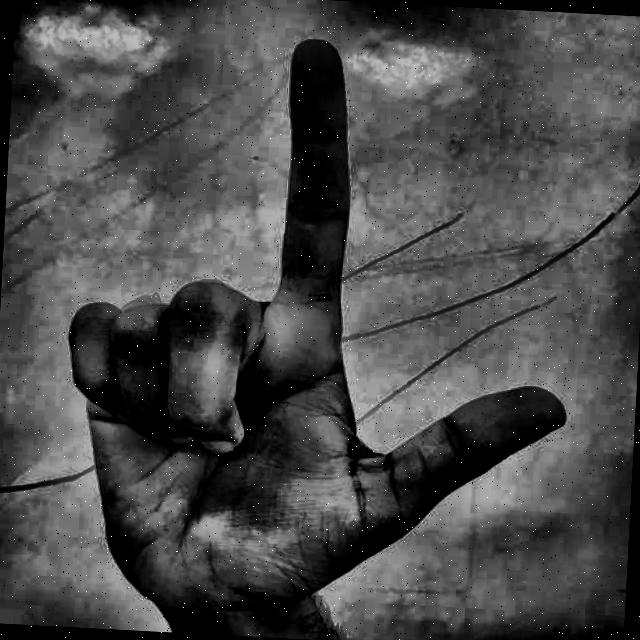La: (24, 15, 596, 640)
